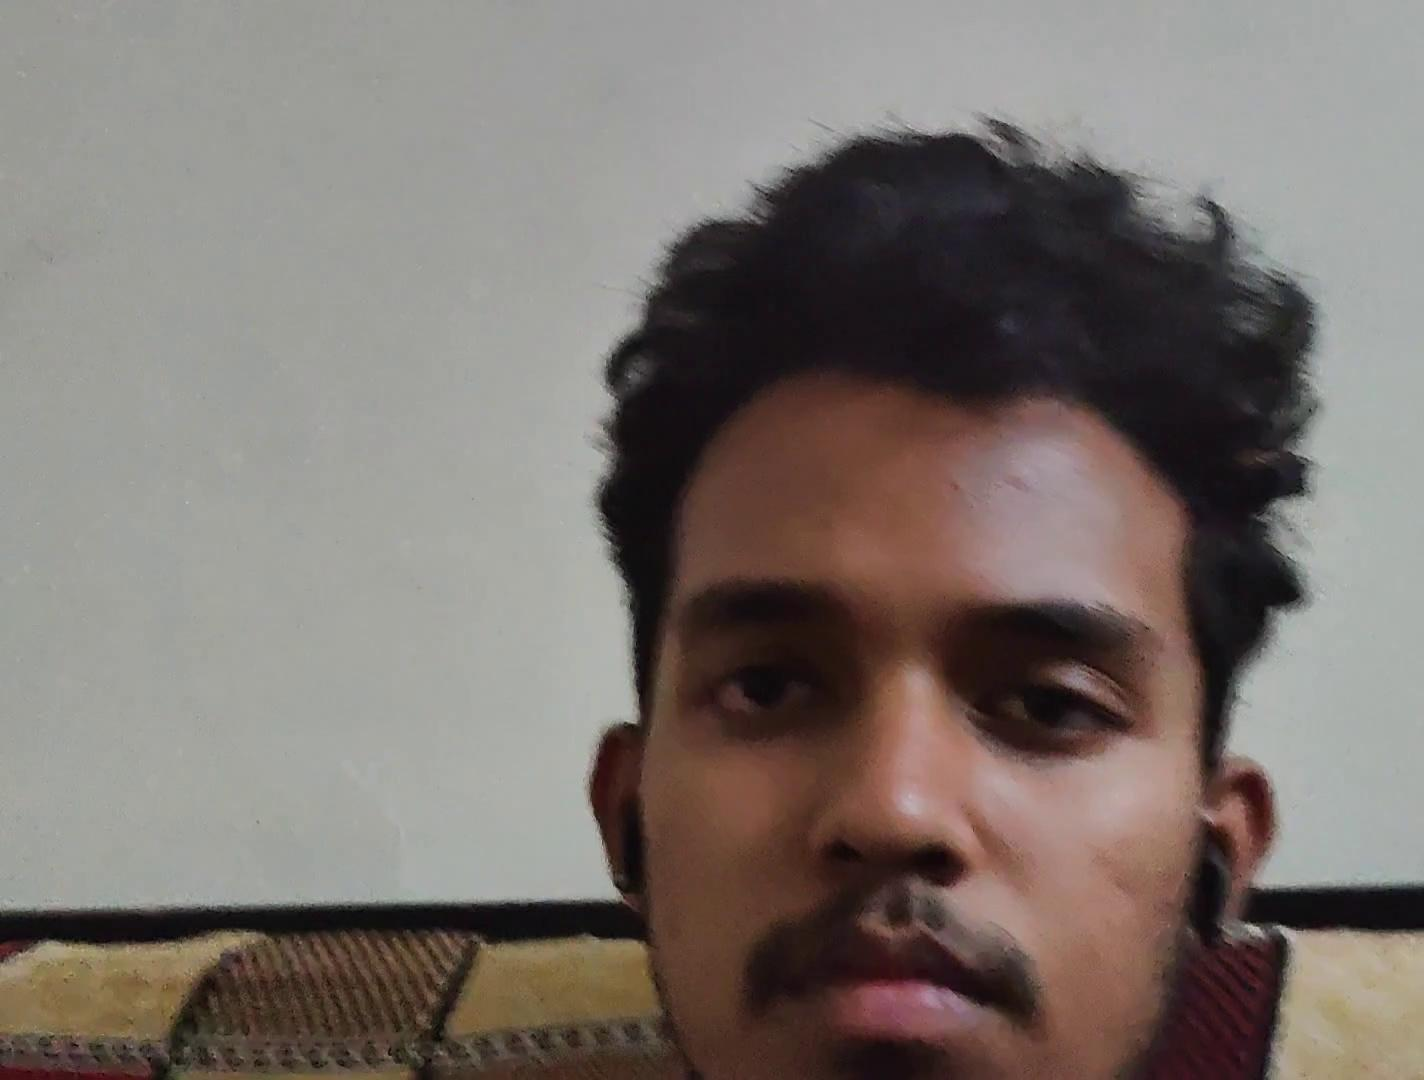face: (637, 380, 1207, 1078)
